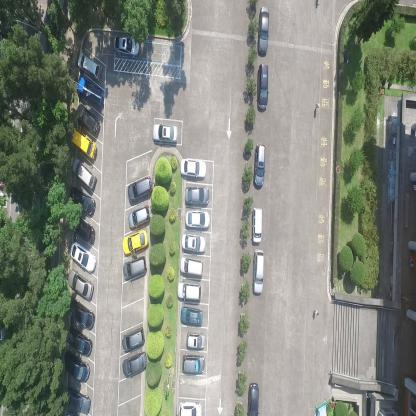car: (63, 348, 91, 382), (66, 268, 94, 301), (70, 125, 97, 159), (69, 241, 97, 273), (76, 75, 104, 106), (72, 155, 97, 189), (67, 187, 96, 216), (67, 300, 95, 330), (67, 326, 93, 356), (121, 348, 147, 378), (76, 103, 100, 135), (64, 386, 91, 414), (128, 172, 153, 202), (75, 52, 102, 79), (71, 214, 95, 244), (122, 228, 148, 255), (256, 61, 270, 111), (252, 140, 266, 189), (112, 34, 140, 58), (121, 325, 145, 353), (179, 156, 207, 179), (258, 5, 270, 57), (176, 279, 202, 303), (123, 254, 147, 280), (152, 122, 178, 145), (252, 250, 265, 295), (183, 185, 210, 206), (250, 205, 264, 245), (180, 256, 204, 278), (128, 204, 150, 228), (184, 210, 210, 230), (180, 306, 204, 327), (181, 353, 204, 374), (185, 330, 206, 352), (181, 234, 206, 252), (178, 398, 203, 416), (247, 380, 259, 416)
